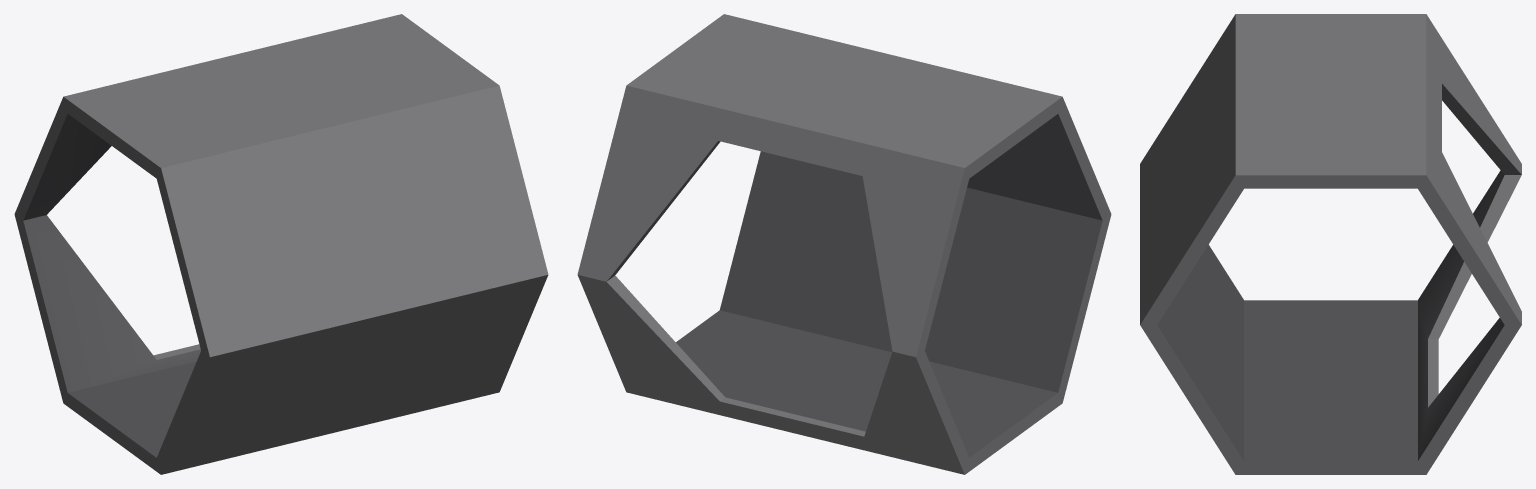
The model's file is Tubo salida.fbx.
3 renders of one model, left to right at view 1: azimuth 30°, elevation 25°; view 2: azimuth 150°, elevation 25°; view 3: azimuth 270°, elevation 25°, orthographic. The views are drawn at different scales.
Visible parts, largest first — view 1: pCylinder12; view 2: pCylinder12; view 3: pCylinder12.
Part boxes in pixels (<box>): pCylinder12: <box>14,14,548,474</box>; pCylinder12: <box>577,14,1111,474</box>; pCylinder12: <box>1140,14,1521,474</box>.
Bounding box in the file's own units: 4.69 × 4.06 × 4.69.
